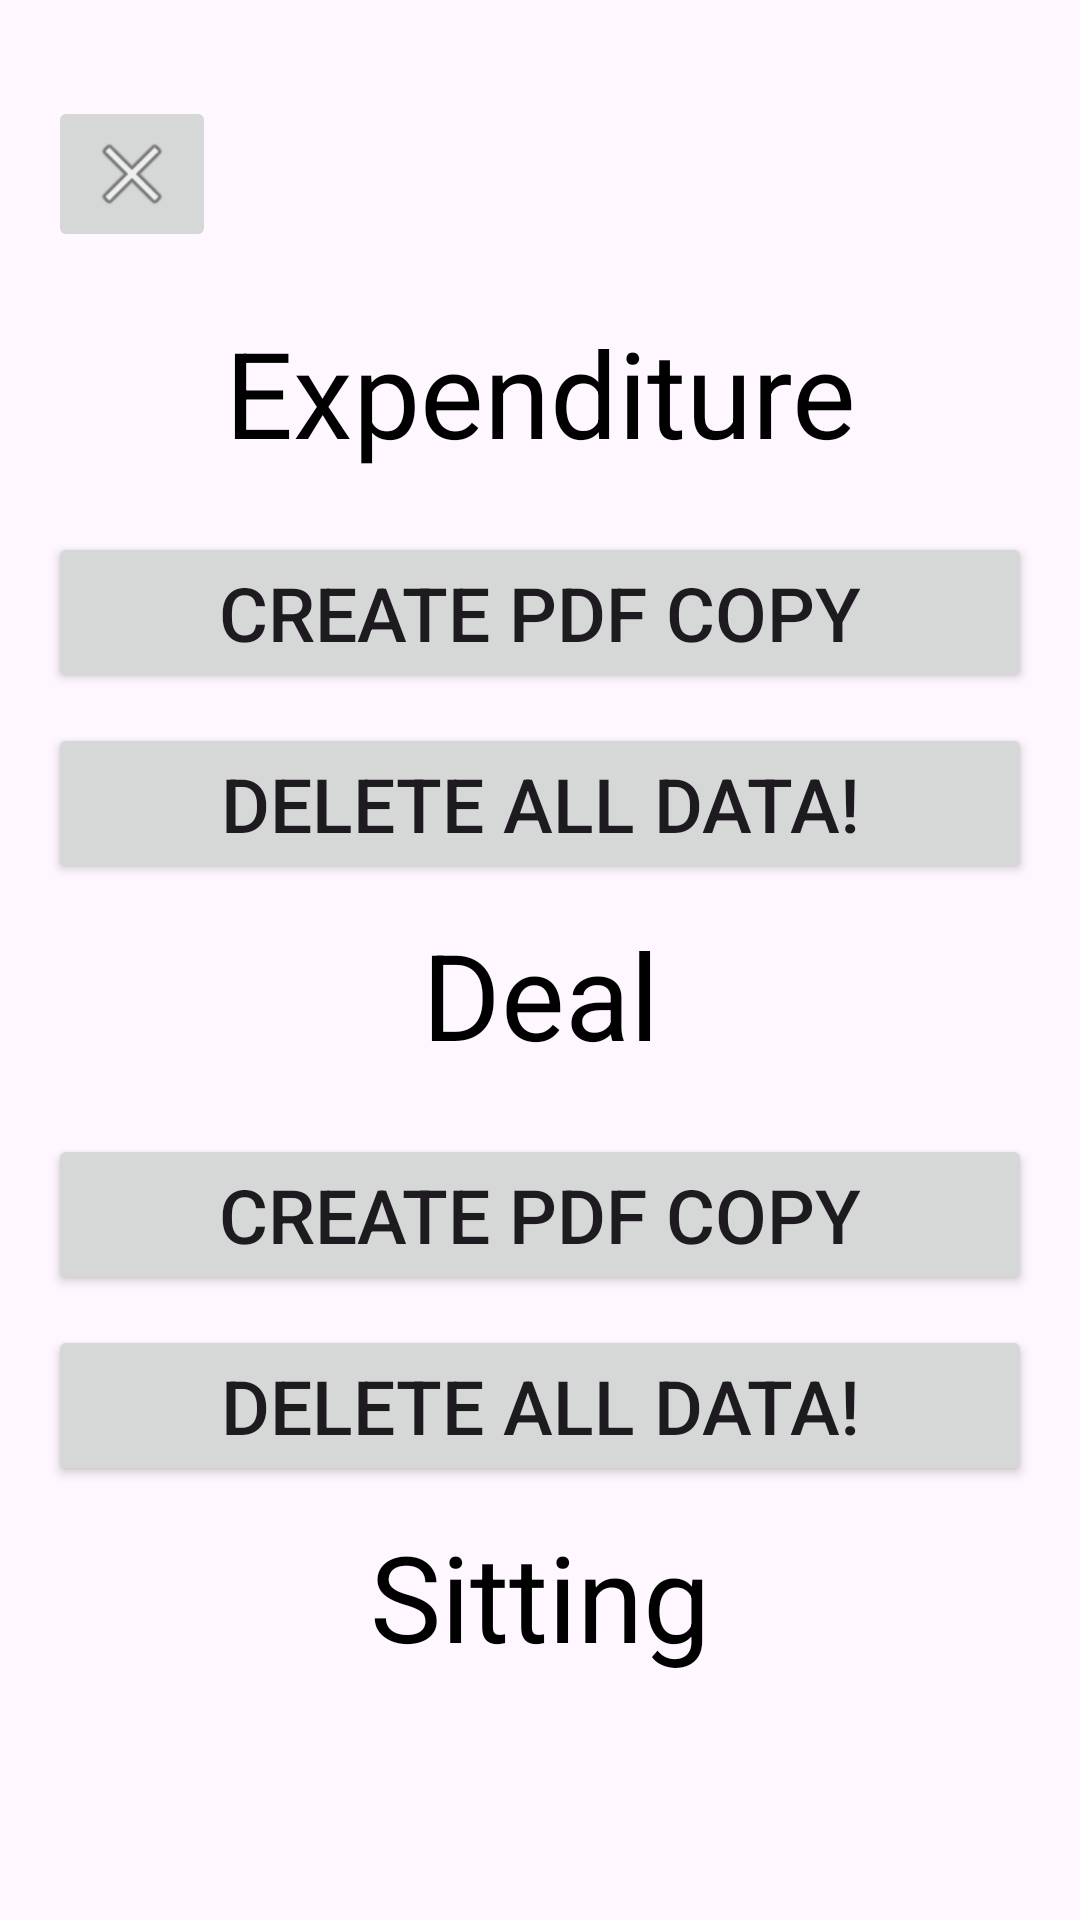

Named icons in this screenshot (1080 x 1920) and their bounding boxes, (x1, y1, x2, y2):
close clear cancel: (60, 114, 204, 234)
